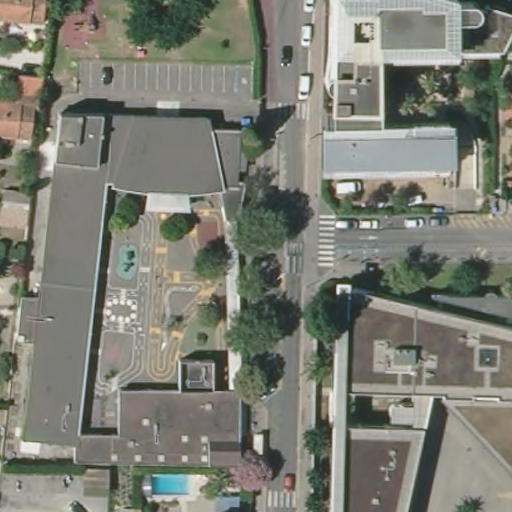pool: (147, 472, 196, 499)
